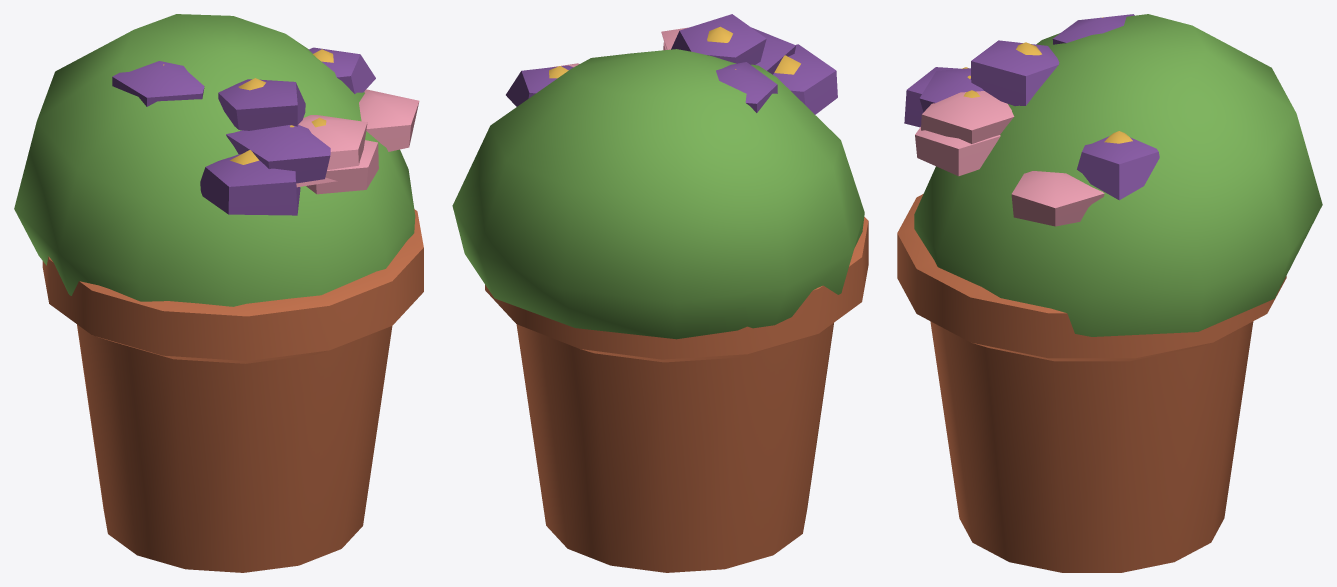
File: flower-pot.glb
The picture shows the model from 3 angles, left to right: view 1: azimuth 30°, elevation 25°; view 2: azimuth 150°, elevation 25°; view 3: azimuth 270°, elevation 25°; orthographic projection.
Visible parts, largest first — view 1: flower-pot; view 2: flower-pot; view 3: flower-pot.
Part boxes in pixels (box(x1,y1,x2,y2)): flower-pot: box(14, 14, 423, 572); flower-pot: box(452, 14, 868, 572); flower-pot: box(897, 14, 1322, 572).
Bounding box in the file's own units: 0.4931 × 0.6273 × 0.5137.
